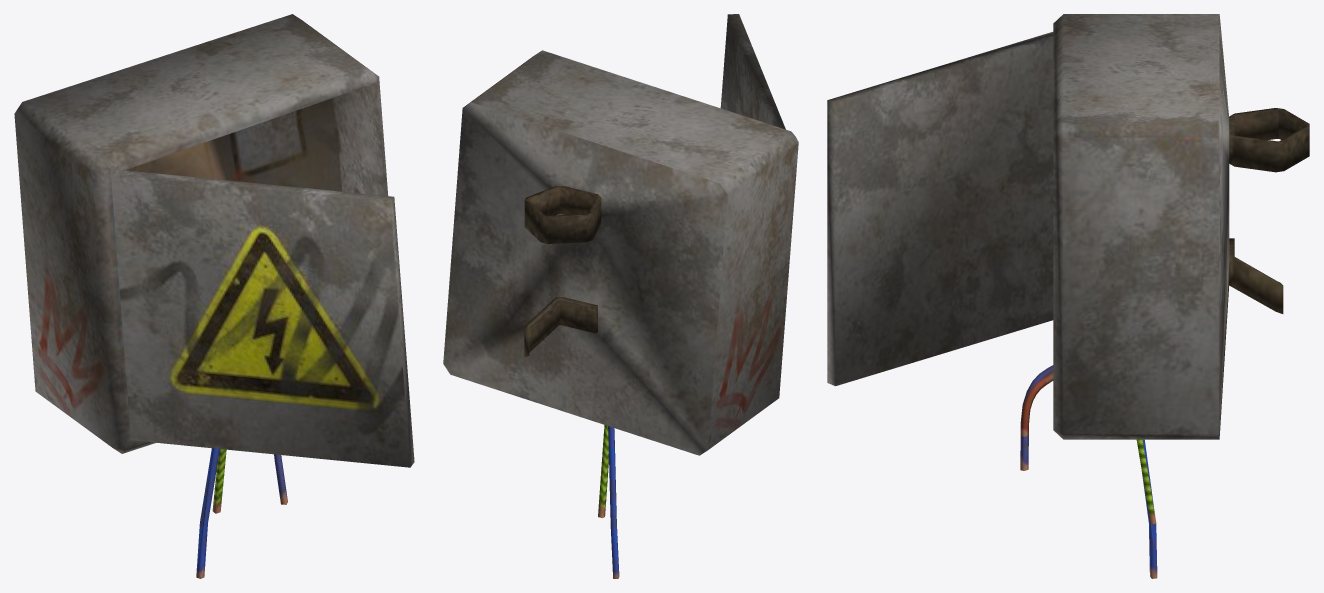
File: electric_box_broken.glb
The picture shows the model from 3 angles, left to right: view 1: azimuth 30°, elevation 25°; view 2: azimuth 150°, elevation 25°; view 3: azimuth 270°, elevation 25°; orthographic projection. The views are drawn at different scales.
Parts seen in each view (by area): view 1: electric_box_broken; view 2: electric_box_broken; view 3: electric_box_broken.
Boxes of the visible parts, x1,y1,x2,y2 form: electric_box_broken: (14, 14, 414, 578); electric_box_broken: (443, 14, 798, 578); electric_box_broken: (827, 14, 1309, 578).
Size of the model in its own units: 0.2599 by 0.4099 by 0.3484.
Materials: 1 (1 with a texture image).
